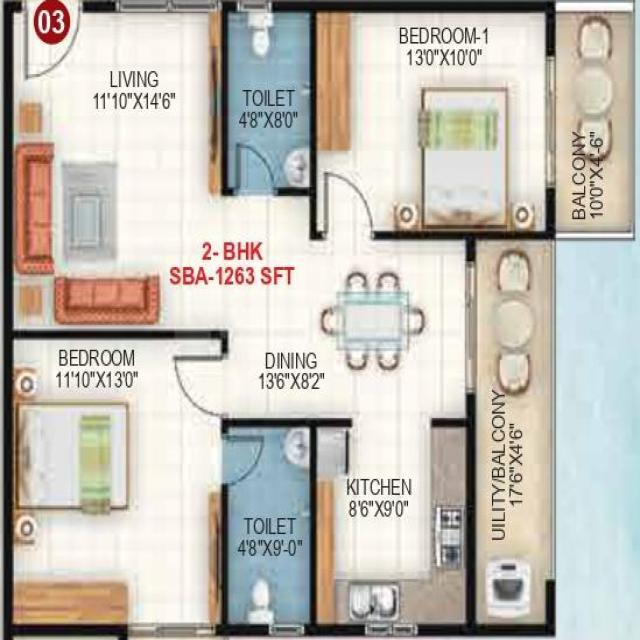Balcony-Sitout: (467, 228, 555, 637), (548, 4, 635, 241)
Bedroom: (310, 6, 556, 242)
Bedroom with Toilet: (6, 334, 314, 631)
Dining: (320, 269, 426, 371)
Enterance-Foyer: (17, 1, 85, 92)
Kitchen: (311, 419, 474, 640)
Living: (4, 2, 229, 337)
Toilet: (221, 418, 316, 638), (218, 3, 316, 193)
